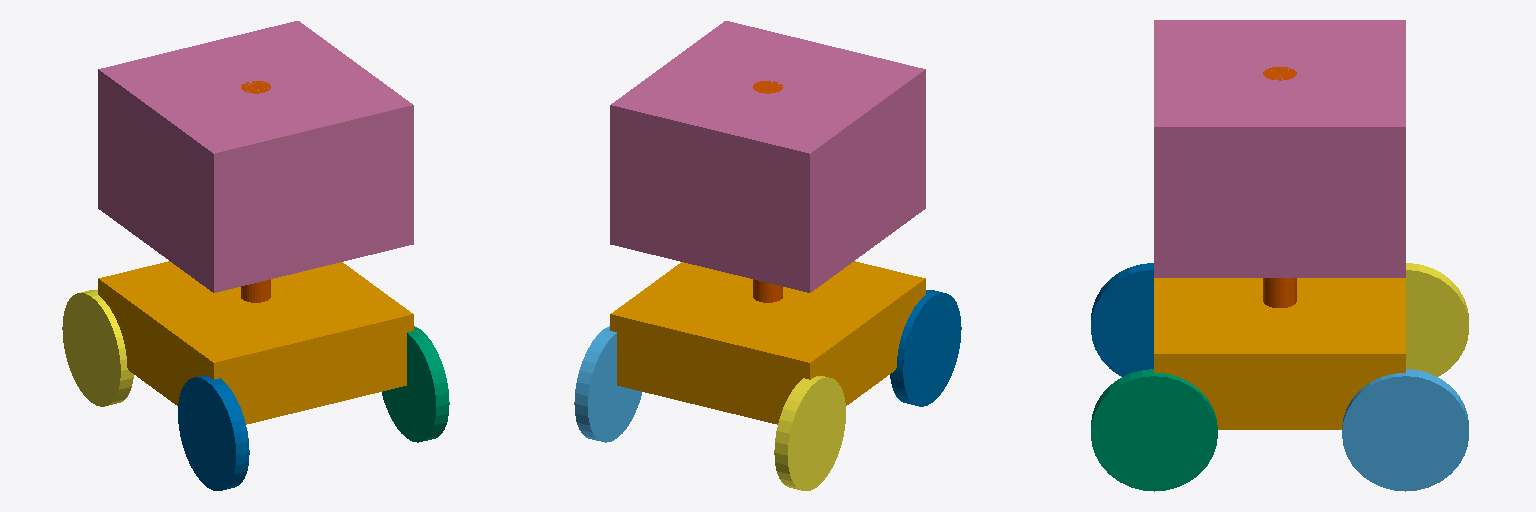
robot.urdf — four_wheeled_robot:
<?xml version="1.0" ?>
<!-- =================================================================================== -->
<!-- |    This document was autogenerated by xacro from src/urdf_simulate/urdf/my_robot.xacro | -->
<!-- |    EDITING THIS FILE BY HAND IS NOT RECOMMENDED                                 | -->
<!-- =================================================================================== -->
<robot name="four_wheeled_robot">
  <!-- 10 cm -->
  <!-- 2 cm -->
  <!-- 2 cm -->
  <!-- 20 cm -->
  <!-- Base Link -->
  <link name="base_link">
    <visual>
      <geometry>
        <box size="0.3 0.3 0.1"/>
      </geometry>
      <material name="gray"/>
    </visual>
    <collision>
      <geometry>
        <box size="0.3 0.3 0.1"/>
      </geometry>
    </collision>
    <inertial>
      <mass value="10.0"/>
      <origin xyz="0 0 0"/>
      <inertia ixx="0.1" ixy="0.0" ixz="0.0" iyy="0.1" iyz="0.0" izz="0.1"/>
    </inertial>
  </link>
  <!-- Four Wheels -->
  <link name="wheel_fl">
    <visual>
      <geometry>
        <cylinder length="0.02" radius="0.076"/>
      </geometry>
      <material name="black"/>
    </visual>
    <collision>
      <geometry>
        <cylinder length="0.02" radius="0.076"/>
      </geometry>
    </collision>
    <inertial>
      <mass value="1.0"/>
      <origin xyz="0 0 0"/>
      <inertia ixx="0.01" ixy="0.0" ixz="0.0" iyy="0.01" iyz="0.0" izz="0.01"/>
    </inertial>
  </link>
  <link name="wheel_fr">
    <visual>
      <geometry>
        <cylinder length="0.02" radius="0.076"/>
      </geometry>
      <material name="black"/>
    </visual>
    <collision>
      <geometry>
        <cylinder length="0.02" radius="0.076"/>
      </geometry>
    </collision>
    <inertial>
      <mass value="1.0"/>
      <origin xyz="0 0 0"/>
      <inertia ixx="0.01" ixy="0.0" ixz="0.0" iyy="0.01" iyz="0.0" izz="0.01"/>
    </inertial>
  </link>
  <link name="wheel_bl">
    <visual>
      <geometry>
        <cylinder length="0.02" radius="0.076"/>
      </geometry>
      <material name="black"/>
    </visual>
    <collision>
      <geometry>
        <cylinder length="0.02" radius="0.076"/>
      </geometry>
    </collision>
    <inertial>
      <mass value="1.0"/>
      <origin xyz="0 0 0"/>
      <inertia ixx="0.01" ixy="0.0" ixz="0.0" iyy="0.01" iyz="0.0" izz="0.01"/>
    </inertial>
  </link>
  <link name="wheel_br">
    <visual>
      <geometry>
        <cylinder length="0.02" radius="0.076"/>
      </geometry>
      <material name="black"/>
    </visual>
    <collision>
      <geometry>
        <cylinder length="0.02" radius="0.076"/>
      </geometry>
    </collision>
    <inertial>
      <mass value="1.0"/>
      <origin xyz="0 0 0"/>
      <inertia ixx="0.01" ixy="0.0" ixz="0.0" iyy="0.01" iyz="0.0" izz="0.01"/>
    </inertial>
  </link>
  <!-- Joints for Wheels -->
  <joint name="joint_wheel_fl" type="continuous">
    <parent link="base_link"/>
    <child link="wheel_fl"/>
    <origin rpy="0 1.570796326795 0" xyz="0.15 0.15 -0.05"/>
    <!--
        Place wheel at the front-left corner -->
    <axis xyz="0 0 1"/>
  </joint>
  <joint name="joint_wheel_fr" type="continuous">
    <parent link="base_link"/>
    <child link="wheel_fr"/>
    <origin rpy="0 1.570796326795 0" xyz="0.15 -0.15 -0.05"/>
    <!--
        Place wheel at the front-right corner -->
    <axis xyz="0 0 1"/>
  </joint>
  <joint name="joint_wheel_bl" type="continuous">
    <parent link="base_link"/>
    <child link="wheel_bl"/>
    <origin rpy="0 1.570796326795 0" xyz="-0.15 0.15 -0.05"/>
    <!--
        Place wheel at the back-left corner -->
    <axis xyz="0 0 1"/>
  </joint>
  <joint name="joint_wheel_br" type="continuous">
    <parent link="base_link"/>
    <child link="wheel_br"/>
    <origin rpy="0 1.570796326795 0" xyz="-0.15 -0.15 -0.05"/>
    <!-- Place wheel at the back-right corner -->
    <axis xyz="0 0 1"/>
  </joint>
  <!-- Telescopic Rod -->
  <link name="telescopic_rod">
    <visual>
      <geometry>
        <cylinder length="0.3" radius="0.02"/>
      </geometry>
      <material name="silver"/>
    </visual>
    <collision>
      <geometry>
        <cylinder length="0.3" radius="0.02"/>
      </geometry>
    </collision>
    <inertial>
      <mass value="0.5"/>
      <origin xyz="0 0 0"/>
      <inertia ixx="0.001" ixy="0.0" ixz="0.0" iyy="0.001" iyz="0.0" izz="0.001"/>
    </inertial>
  </link>
  <!-- Joint for Telescopic Rod -->
  <joint name="joint_telescopic_rod" type="fixed">
    <parent link="base_link"/>
    <child link="telescopic_rod"/>
    <origin xyz="0 0 0.2"/>
    <!-- Attach rod to the top of the base -->
  </joint>
  <!-- Body Link on Top of Telescopic Rod -->
  <link name="body_top">
    <visual>
      <geometry>
        <box size="0.3 0.3 0.2"/>
      </geometry>
      <material name="blue"/>
    </visual>
    <collision>
      <geometry>
        <box size="0.3 0.3 0.2"/>
      </geometry>
    </collision>
    <inertial>
      <mass value="2.0"/>
      <origin xyz="0 0 0"/>
      <inertia ixx="0.02" ixy="0.0" ixz="0.0" iyy="0.02" iyz="0.0" izz="0.02"/>
    </inertial>
  </link>
  <!-- Joint for Body Top -->
  <joint name="joint_body_top" type="prismatic">
    <parent link="telescopic_rod"/>
    <child link="body_top"/>
    <origin xyz="0 0 0.05000000000000002"/>
    <!-- Attach body to
        the top of the rod -->
    <axis xyz="0 0 1"/>
    <limit effort="10.0" lower="0" upper="0.19999999999999998" velocity="0.05"/>
    <!-- 10 cm to 30 cm -->
  </joint>
  <!-- Transmission for the wheels -->
  <transmission name="trans_wheel_fl">
    <type>transmission_interface/SimpleTransmission</type>
    <joint name="joint_wheel_fl">
      <hardwareInterface>hardware_interface/VelocityJointInterface</hardwareInterface>
    </joint>
    <actuator name="actuator_wheel_fl">
      <mechanicalReduction>1</mechanicalReduction>
    </actuator>
  </transmission>
  <transmission name="trans_wheel_fr">
    <type>transmission_interface/SimpleTransmission</type>
    <joint name="joint_wheel_fr">
      <hardwareInterface>hardware_interface/VelocityJointInterface</hardwareInterface>
    </joint>
    <actuator name="actuator_wheel_fr">
      <mechanicalReduction>1</mechanicalReduction>
    </actuator>
  </transmission>
  <transmission name="trans_wheel_bl">
    <type>transmission_interface/SimpleTransmission</type>
    <joint name="joint_wheel_bl">
      <hardwareInterface>hardware_interface/VelocityJointInterface</hardwareInterface>
    </joint>
    <actuator name="actuator_wheel_bl">
      <mechanicalReduction>1</mechanicalReduction>
    </actuator>
  </transmission>
  <transmission name="trans_wheel_br">
    <type>transmission_interface/SimpleTransmission</type>
    <joint name="joint_wheel_br">
      <hardwareInterface>hardware_interface/VelocityJointInterface</hardwareInterface>
    </joint>
    <actuator name="actuator_wheel_br">
      <mechanicalReduction>1</mechanicalReduction>
    </actuator>
  </transmission>
  <!-- Gazebo plugin for differential drive control -->
  <gazebo>
    <plugin filename="libgazebo_ros_diff_drive.so" name="gazebo_ros_diff_drive">
      <ros>
        <namespace>/my_robot</namespace>
        <remapping>cmd_vel:=cmd_vel</remapping>
      </ros>
      <updateRate>50</updateRate>
      <leftJoint>joint_wheel_bl</leftJoint>
      <leftJoint>joint_wheel_fl</leftJoint>
      <rightJoint>joint_wheel_br</rightJoint>
      <rightJoint>joint_wheel_fr</rightJoint>
      <wheelSeparation>0.3</wheelSeparation>
      <wheelDiameter>0.152</wheelDiameter>
      <torque>5.0</torque>
    </plugin>
  </gazebo>
</robot>

--- Render facts (derived) ---
3 views of the same robot in one strip: view 1: azimuth 30°, elevation 25°; view 2: azimuth 150°, elevation 25°; view 3: azimuth 270°, elevation 25° (orthographic).
Robot: four_wheeled_robot — 7 links, 6 joints (4 continuous, 1 prismatic, 1 fixed); root link base_link; default pose: every joint at zero.
Visible links, largest first — view 1: body_top, base_link, wheel_br, wheel_bl, wheel_fr, telescopic_rod; view 2: body_top, base_link, wheel_bl, wheel_br, wheel_fl, telescopic_rod; view 3: body_top, base_link, wheel_fl, wheel_fr, wheel_bl, wheel_br, telescopic_rod.
Link boxes in pixels (x1=…): body_top: x1=98, y1=21, x2=413, y2=292; base_link: x1=98, y1=261, x2=413, y2=424; wheel_br: x1=178, y1=376, x2=249, y2=490; wheel_bl: x1=62, y1=290, x2=133, y2=406; wheel_fr: x1=382, y1=326, x2=449, y2=442; telescopic_rod: x1=241, y1=81, x2=270, y2=302; body_top: x1=610, y1=21, x2=925, y2=292; base_link: x1=610, y1=261, x2=925, y2=424; wheel_bl: x1=774, y1=376, x2=845, y2=490; wheel_br: x1=890, y1=290, x2=961, y2=406; wheel_fl: x1=574, y1=326, x2=641, y2=442; telescopic_rod: x1=753, y1=81, x2=782, y2=302; body_top: x1=1154, y1=20, x2=1405, y2=277; base_link: x1=1154, y1=278, x2=1405, y2=429; wheel_fl: x1=1342, y1=369, x2=1468, y2=491; wheel_fr: x1=1091, y1=369, x2=1217, y2=491; wheel_bl: x1=1406, y1=263, x2=1468, y2=376; wheel_br: x1=1091, y1=263, x2=1153, y2=376; telescopic_rod: x1=1263, y1=67, x2=1296, y2=307.
Bounding box of the posed robot: 0.32 × 0.452 × 0.476 m (x, y, z).
Geometry: primitives only (box / cylinder / sphere), no mesh files.